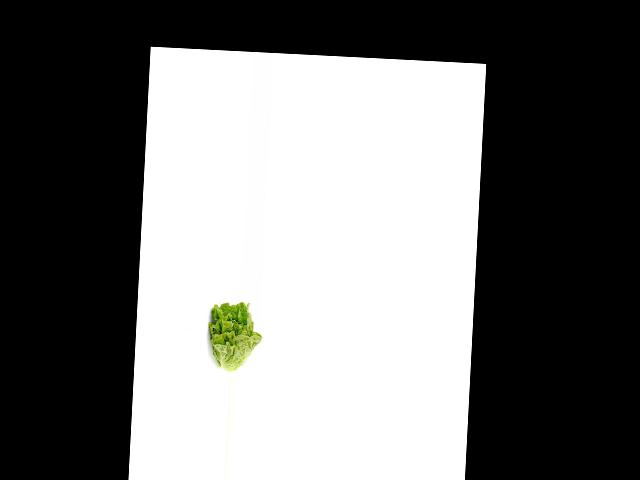lettuce: (202, 300, 262, 372)
